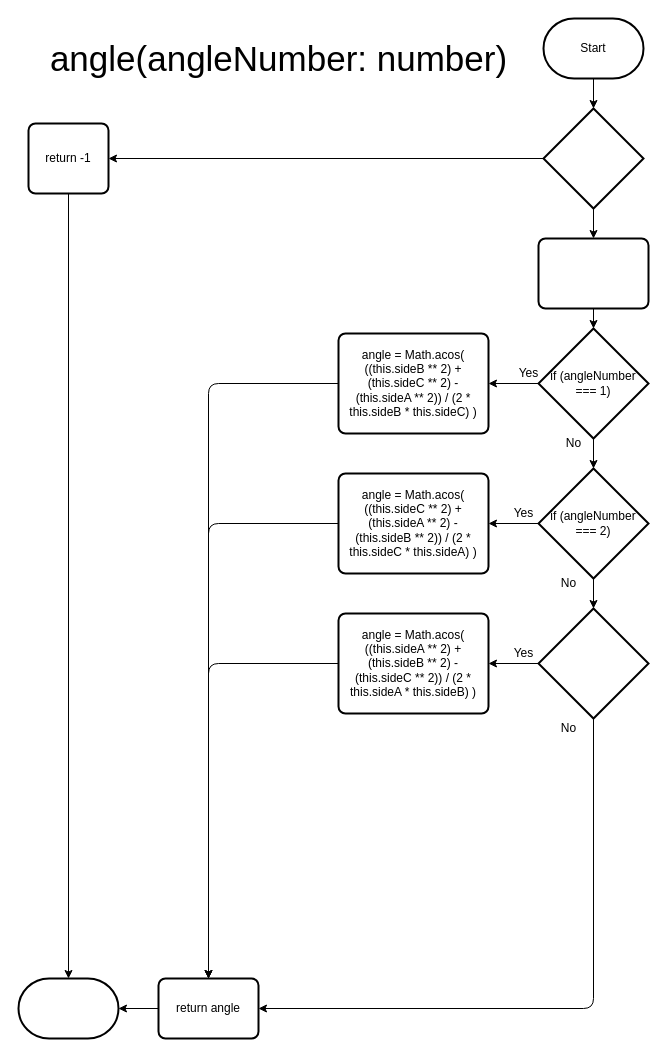
Some shapes in this 666 by 1056 pixel diagram are drawn without their labels. Each missing label, with the centre of its shape:
"if (angleNumber === 3)" goes at pixel 593 663.
"if (this.isValid() === false)" goes at pixel 593 158.
"let angle: number" goes at pixel 593 273.
"Stop" goes at pixel 68 1008.
